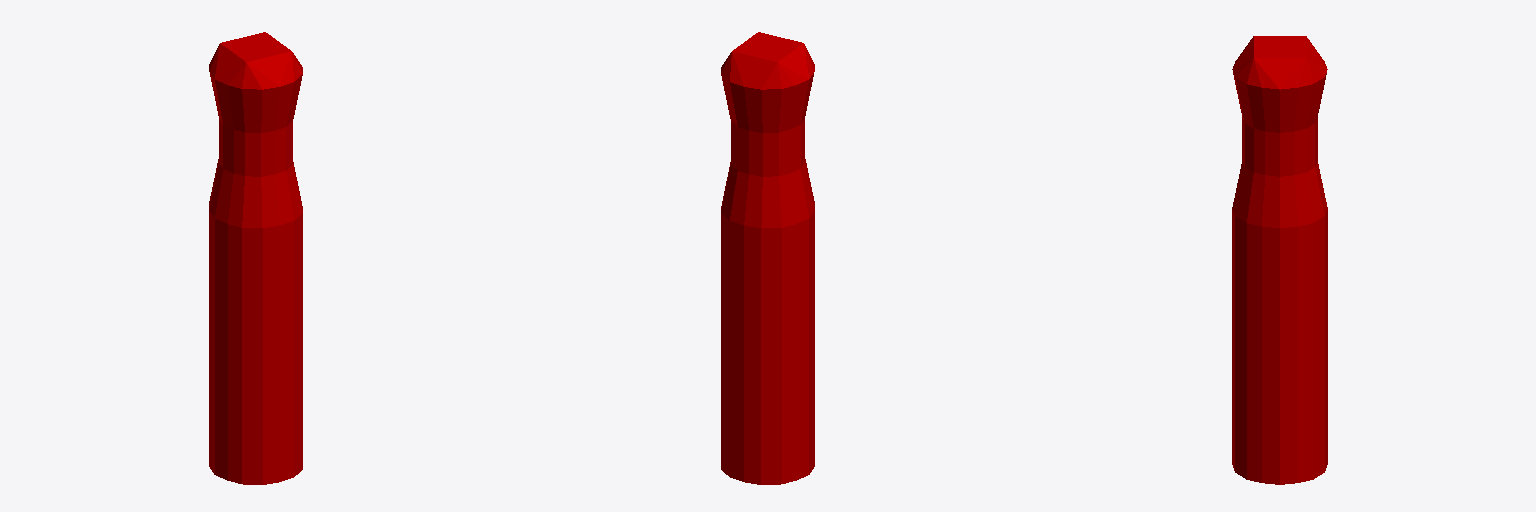
Rendered from pro.obj.
3 renders of one model, left to right at view 1: azimuth 30°, elevation 25°; view 2: azimuth 150°, elevation 25°; view 3: azimuth 270°, elevation 25°, orthographic.
Bounding box in the file's own units: 2 × 9.66 × 2.